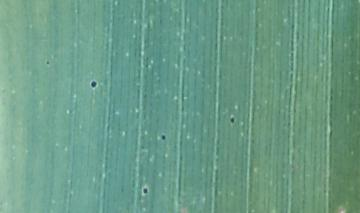tarspot: (140, 183, 149, 197), (89, 78, 99, 90), (229, 115, 236, 126), (160, 132, 167, 141), (46, 60, 51, 67)
